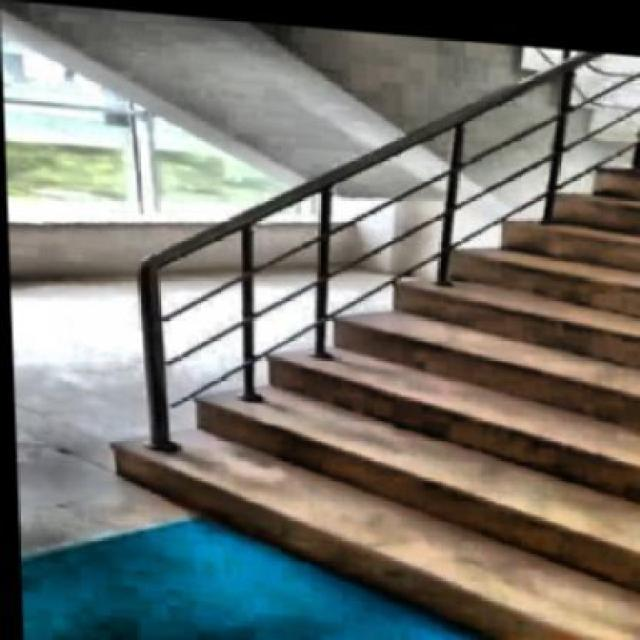stair: (71, 43, 638, 639)
